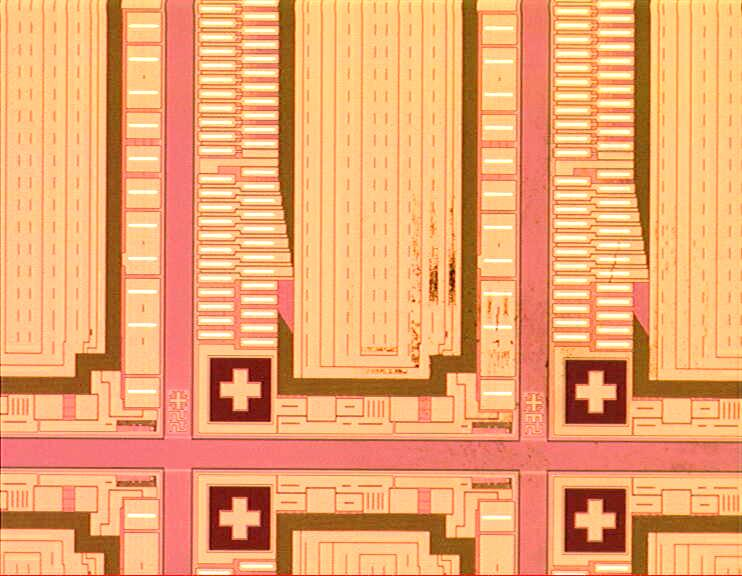SCRATCH: (350, 192, 521, 496)
